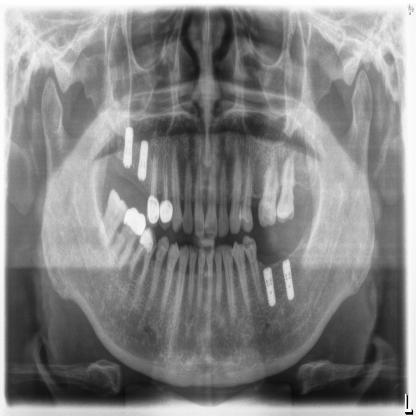ITI: (280, 253, 297, 303), (121, 121, 135, 174), (262, 263, 278, 309), (138, 134, 150, 184)
